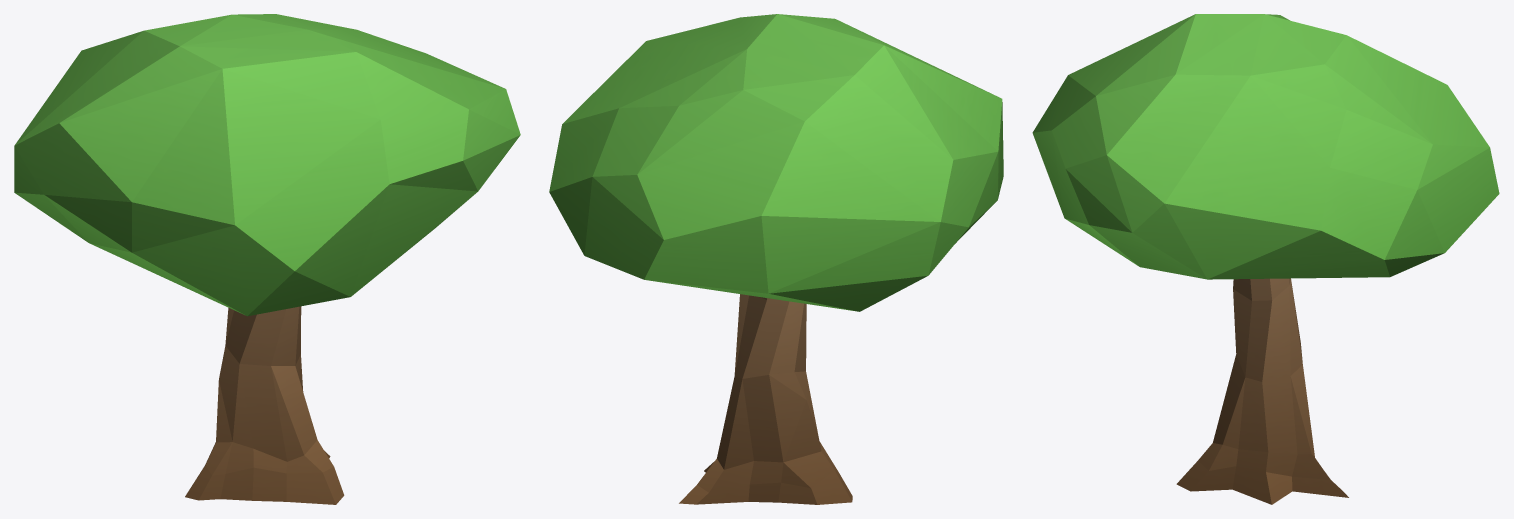
Rendered from Tree_Mammoth_Green_01.fbx.
3 renders of one model, left to right at view 1: azimuth 30°, elevation 25°; view 2: azimuth 150°, elevation 25°; view 3: azimuth 270°, elevation 25°, orthographic. The views are drawn at different scales.
Visible parts, largest first — view 1: Tree_Mammoth_Green; view 2: Tree_Mammoth_Green; view 3: Tree_Mammoth_Green.
Part boxes in pixels (<box>): Tree_Mammoth_Green: <box>14,14,520,504</box>; Tree_Mammoth_Green: <box>549,14,1003,504</box>; Tree_Mammoth_Green: <box>1032,14,1499,504</box>.
Size of the model in its own units: 7.5 by 8 by 8.
